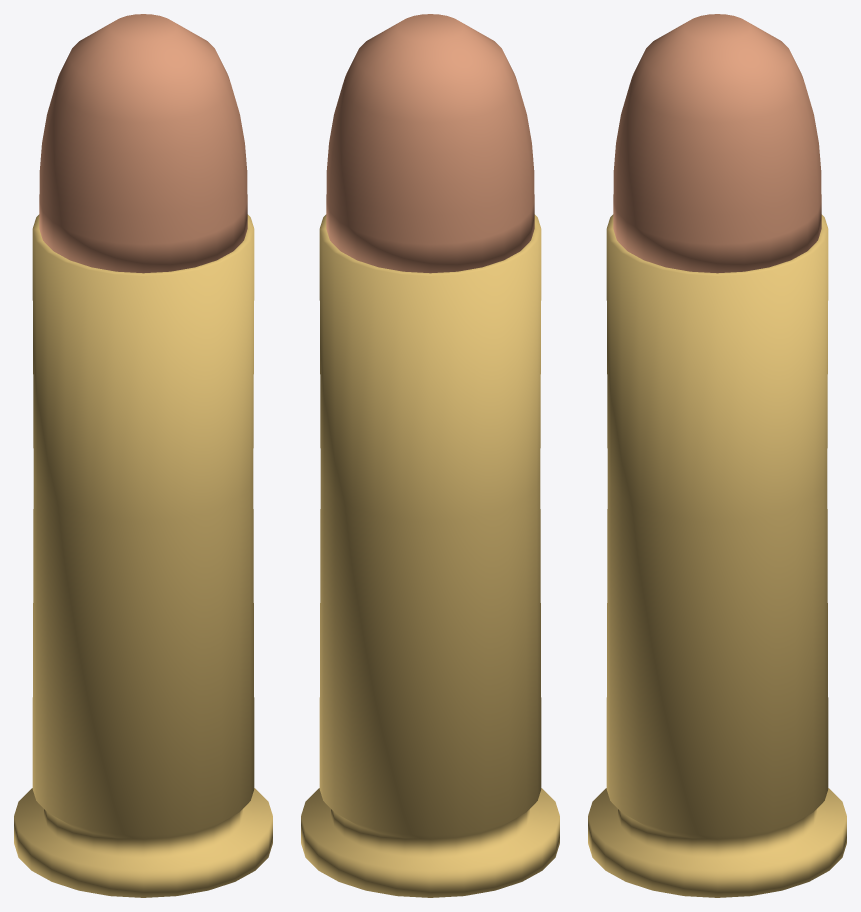
File: 38sp_std.glb
3 renders of one model, left to right at view 1: azimuth 30°, elevation 25°; view 2: azimuth 150°, elevation 25°; view 3: azimuth 270°, elevation 25°, orthographic.
Parts seen in each view (by area): view 1: vaina, bala; view 2: vaina, bala; view 3: vaina, bala.
Boxes of the visible parts, x1,y1,x2,y2 form: vaina: (14,214,272,897); bala: (39,14,247,273); vaina: (301,214,559,897); bala: (326,14,534,273); vaina: (588,214,846,897); bala: (613,14,821,273).
Bounding box in the file's own units: 0.0112 × 0.0389 × 0.0112.
